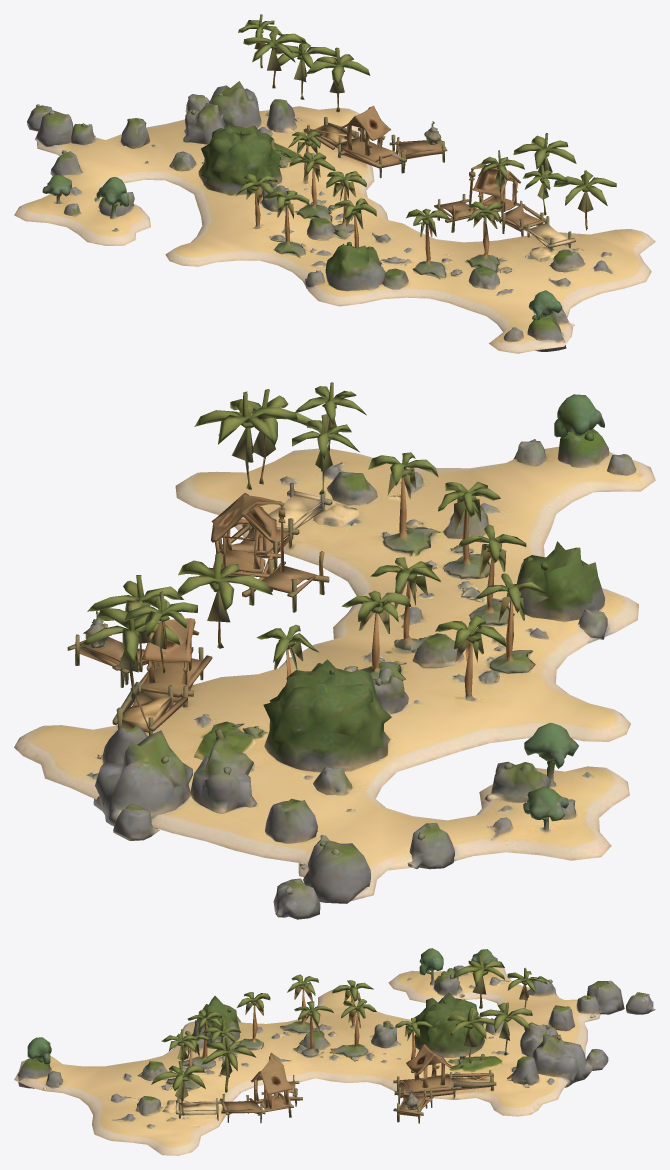
The model's file is isle_02.glb.
3 views of the same model, one above another, from view 1: azimuth 30°, elevation 25°; view 2: azimuth 150°, elevation 25°; view 3: azimuth 270°, elevation 25° (orthographic). The views are drawn at different scales.
Visible parts, largest first — view 1: tripo_node_86e7cbb3-1c8e-48f4-b878-aa773564e77e; view 2: tripo_node_86e7cbb3-1c8e-48f4-b878-aa773564e77e; view 3: tripo_node_86e7cbb3-1c8e-48f4-b878-aa773564e77e.
Part boxes in pixels (x1=…): tripo_node_86e7cbb3-1c8e-48f4-b878-aa773564e77e: x1=14, y1=14, x2=655, y2=353; tripo_node_86e7cbb3-1c8e-48f4-b878-aa773564e77e: x1=14, y1=382, x2=655, y2=919; tripo_node_86e7cbb3-1c8e-48f4-b878-aa773564e77e: x1=14, y1=948, x2=655, y2=1155.
Size of the model in its own units: 64.22 by 18.36 by 89.42.
1 material, 1 textured.
